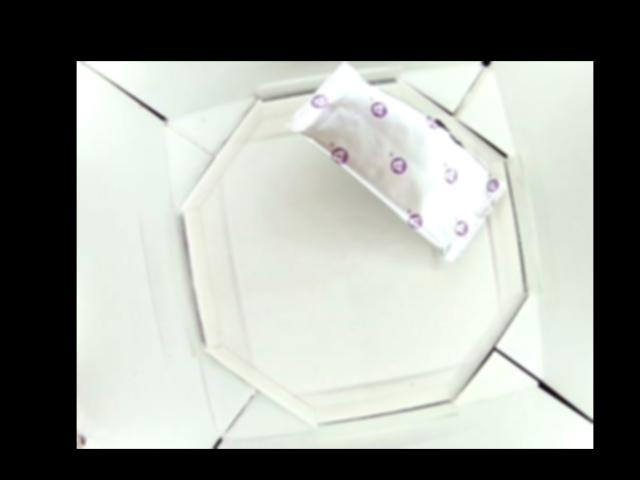Medicine: (284, 62, 507, 259)
